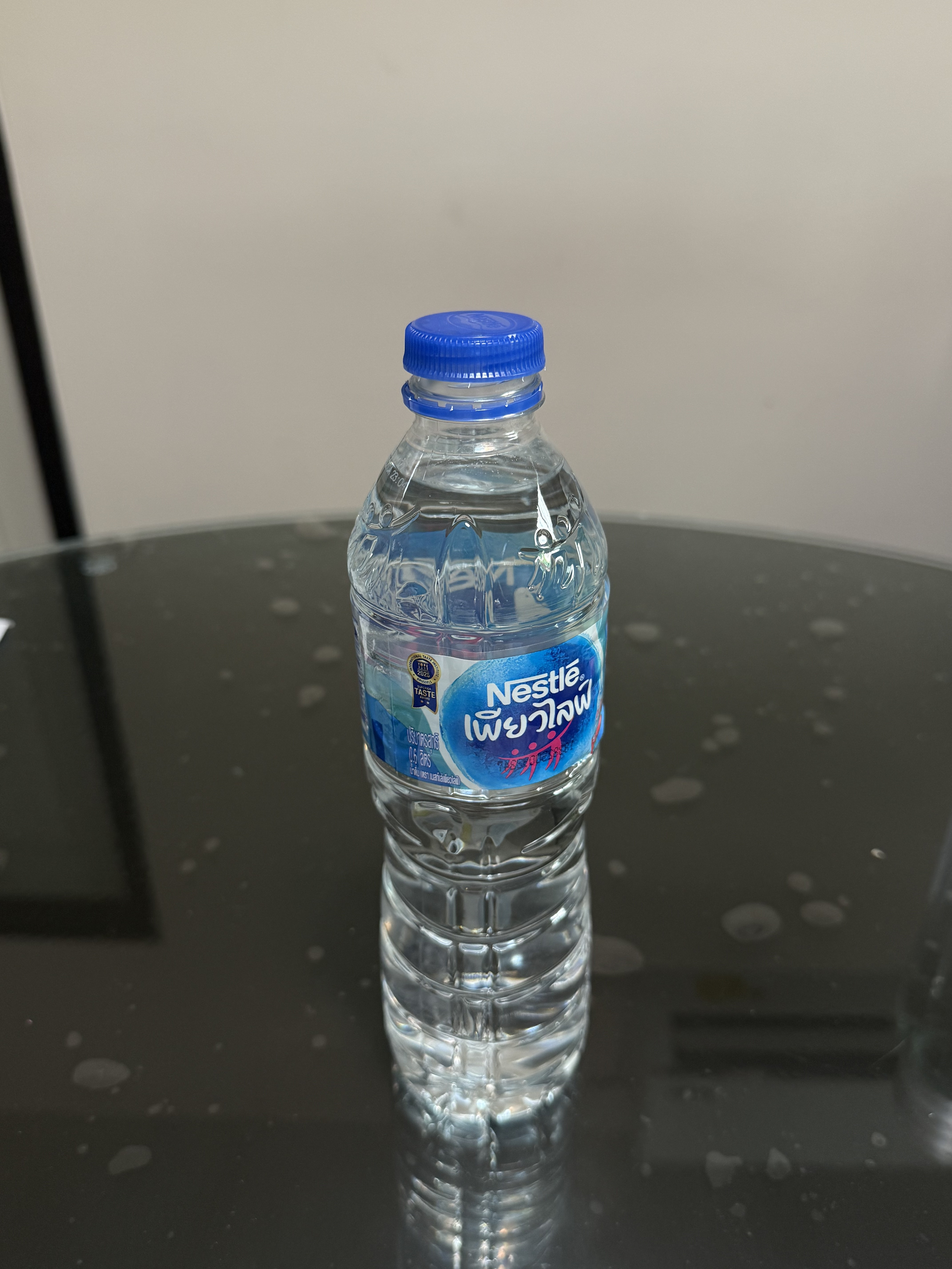half_cap: (394, 304, 550, 420)
